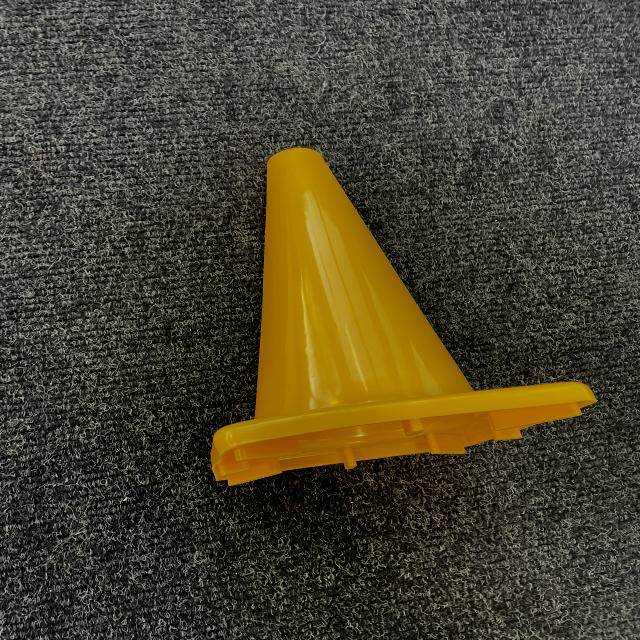frc_cone: (211, 143, 594, 486)
